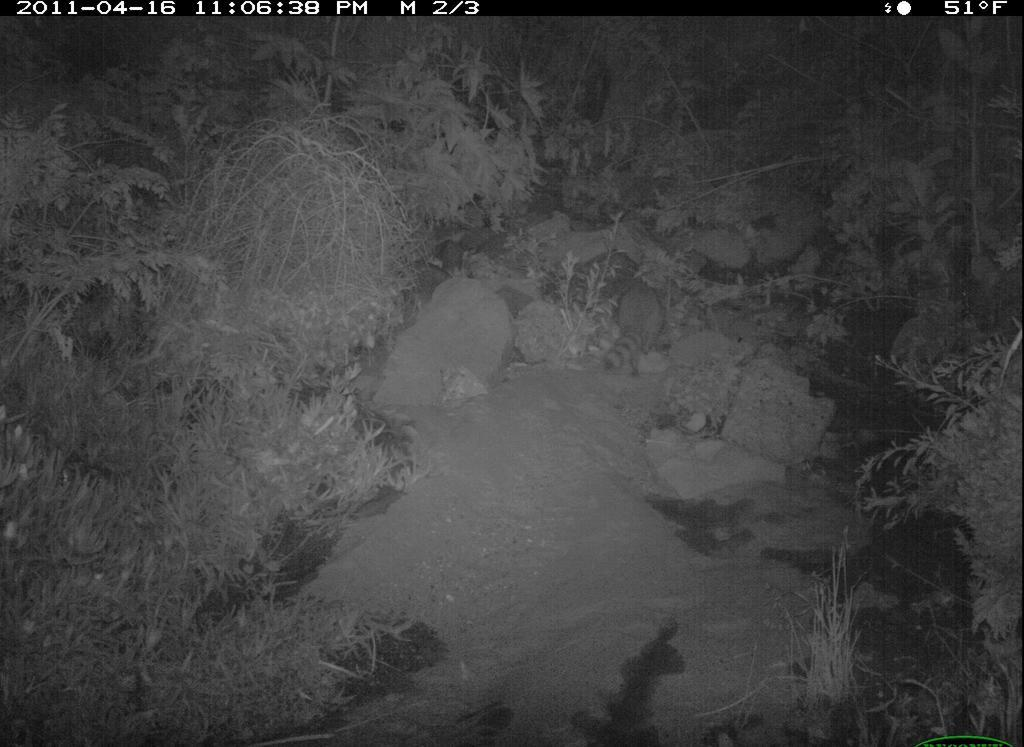raccoon: (593, 273, 672, 381)
